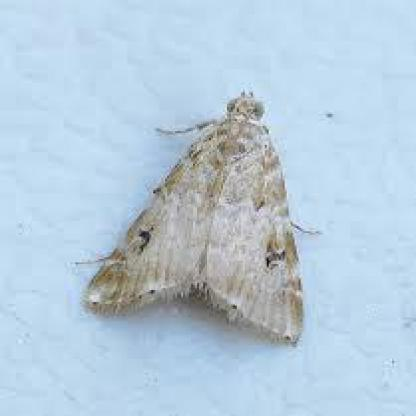Hellula undalis: (65, 79, 327, 351)
